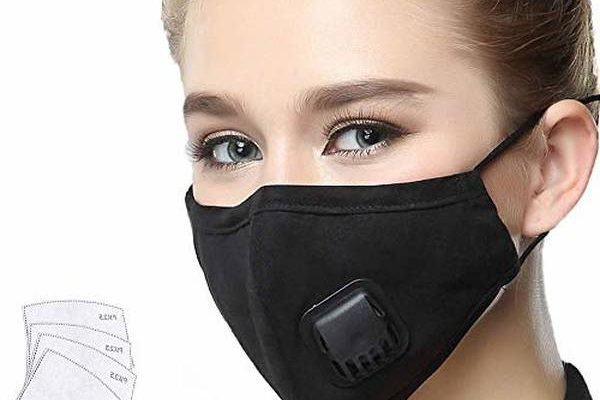mask: (152, 1, 600, 397)
